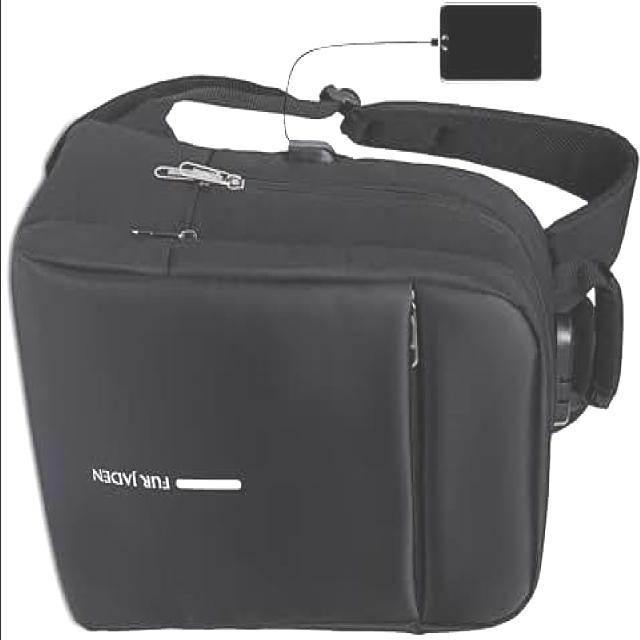backpack: (4, 74, 640, 640)
